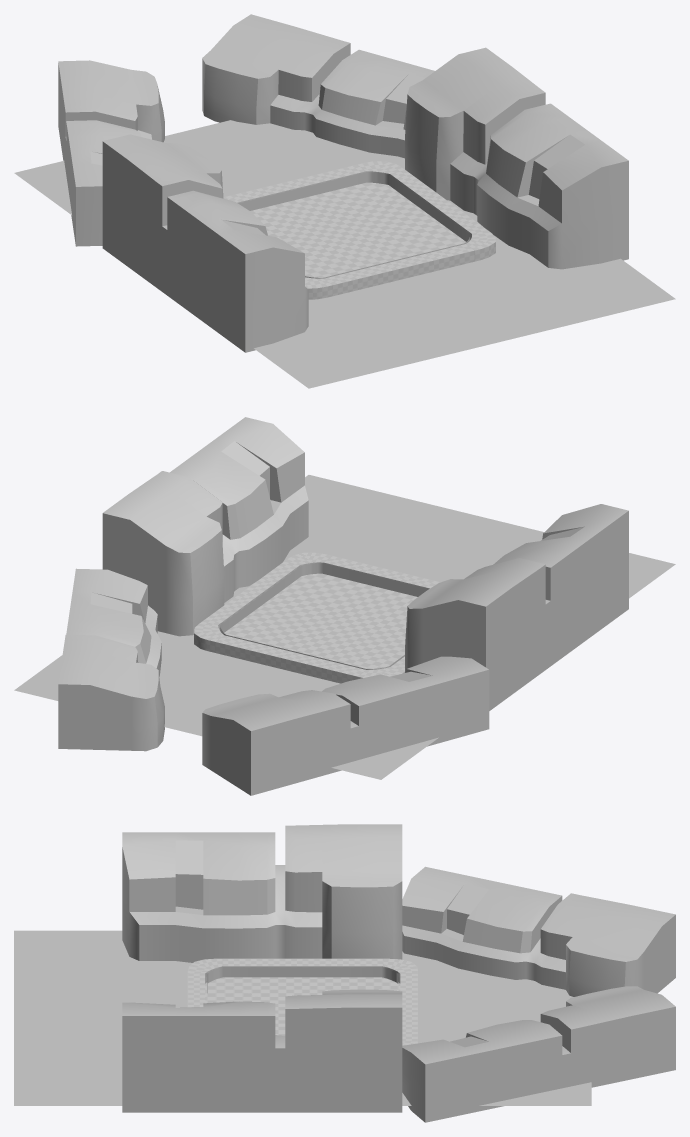
Rendered from platform_1_increment_1.fbx.
The picture shows the model from 3 angles, top to bottom: view 1: azimuth 30°, elevation 25°; view 2: azimuth 150°, elevation 25°; view 3: azimuth 270°, elevation 25°; orthographic projection. The views are drawn at different scales.
Visible parts, largest first — view 1: pPlane1, pCube3, pCube2, pCube5, polySurface5, pCube4, polySurface7, polySurface8; view 2: pCube3, pPlane1, pCube2, pCube4, pCube5, polySurface5, polySurface7, polySurface8; view 3: pCube2, pCube3, pPlane1, pCube4, pCube5, polySurface7, polySurface5, polySurface8.
Boxes of the visible parts, box(x1,y1,x2,y2) form: pPlane1: box(14, 120, 675, 388); pCube3: box(405, 47, 628, 269); pCube2: box(102, 134, 308, 352); pCube5: box(202, 14, 434, 158); polySurface5: box(250, 182, 465, 277); pCube4: box(58, 60, 164, 246); polySurface7: box(223, 161, 495, 299); polySurface8: box(238, 172, 469, 278); pCube3: box(102, 417, 308, 636); pPlane1: box(14, 475, 675, 779); pCube2: box(405, 504, 628, 710); pCube4: box(202, 656, 489, 795); pCube5: box(58, 568, 164, 751); polySurface5: box(224, 573, 417, 668); polySurface7: box(194, 552, 440, 683); polySurface8: box(220, 563, 428, 669); pCube2: box(122, 824, 402, 962); pCube3: box(122, 989, 402, 1112); pPlane1: box(14, 930, 591, 1105); pCube4: box(402, 866, 675, 996); pCube5: box(402, 986, 675, 1122); polySurface7: box(187, 958, 417, 1045); polySurface5: box(205, 977, 400, 1035); polySurface8: box(207, 967, 398, 992).
Size of the model in its own units: 52.84 by 13.54 by 74.77.
